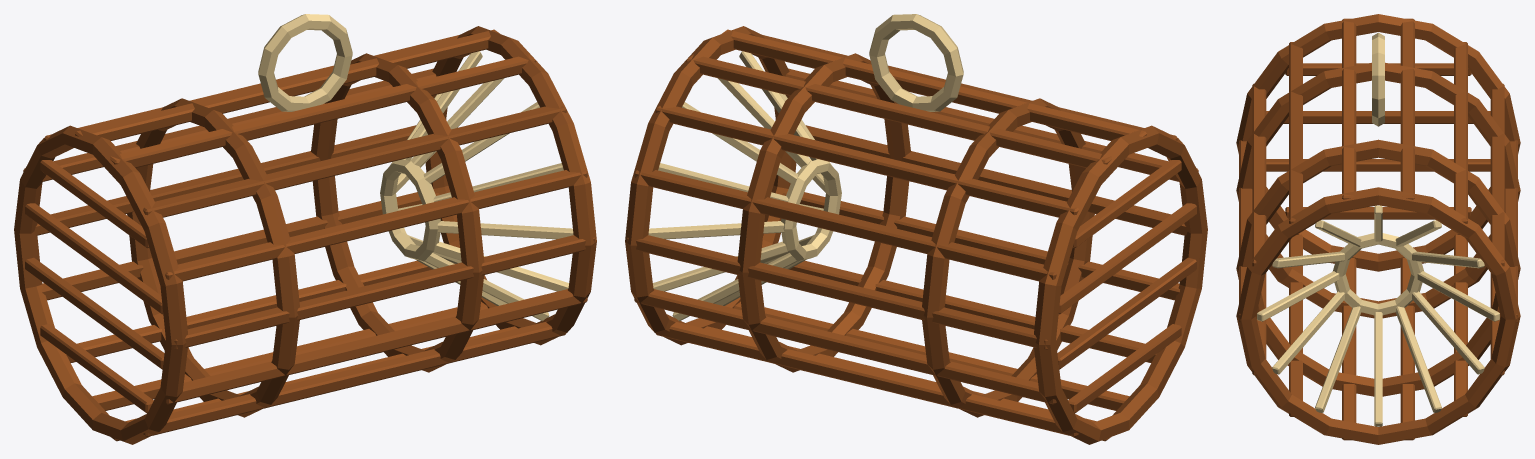
File: EM_LobsterPot.fbx
The picture shows the model from 3 angles, left to right: view 1: azimuth 30°, elevation 25°; view 2: azimuth 150°, elevation 25°; view 3: azimuth 270°, elevation 25°; orthographic projection. The views are drawn at different scales.
Visible parts, largest first — view 1: EM_LobsterPot; view 2: EM_LobsterPot; view 3: EM_LobsterPot.
Part boxes in pixels (x1,y1,x2,y2): EM_LobsterPot: (14, 14, 596, 444); EM_LobsterPot: (625, 14, 1207, 444); EM_LobsterPot: (1236, 14, 1520, 444).
Bounding box in the file's own units: 1.29 × 1.07 × 0.86.
